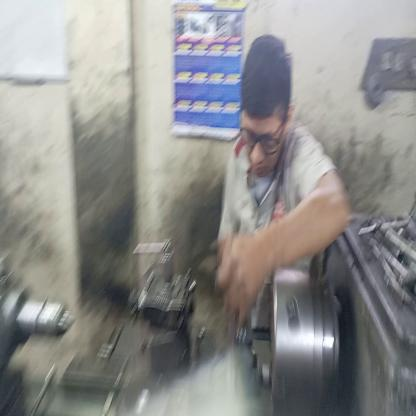lentes: (237, 114, 290, 157)
